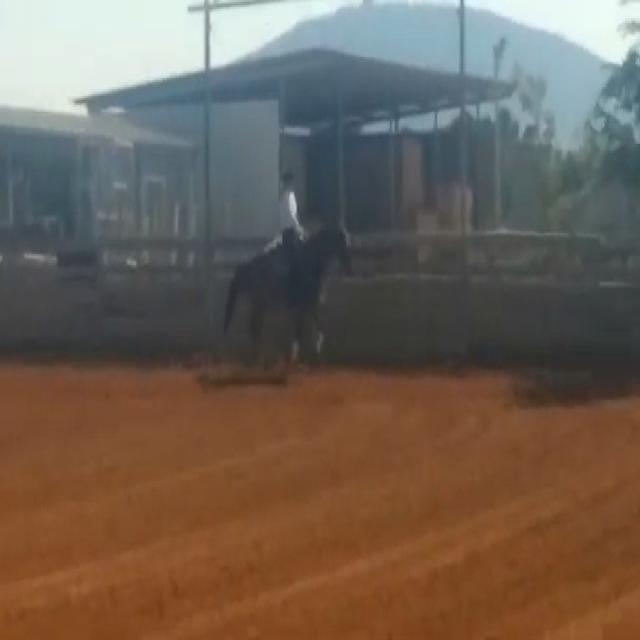horse: (220, 217, 355, 370)
